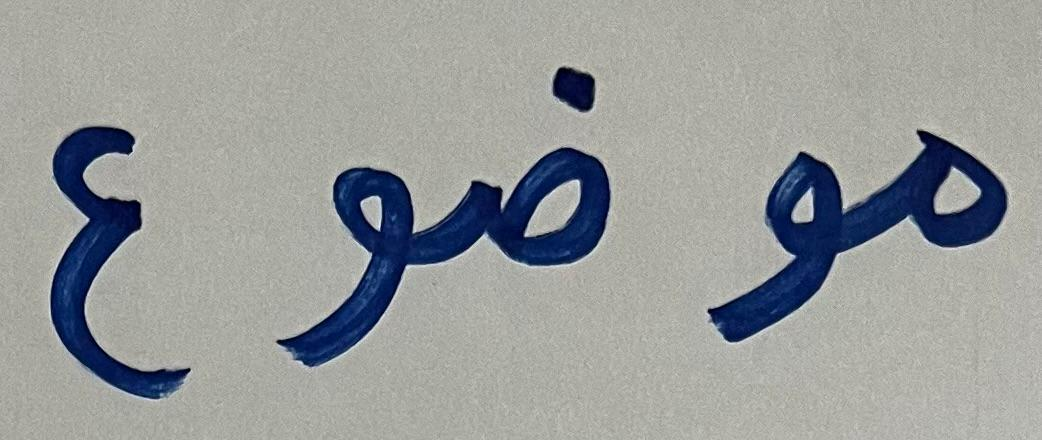ain: (12, 61, 219, 418)
dad: (425, 23, 672, 353)
meem: (878, 80, 1026, 283)
waw: (234, 115, 420, 389), (696, 113, 867, 360)
